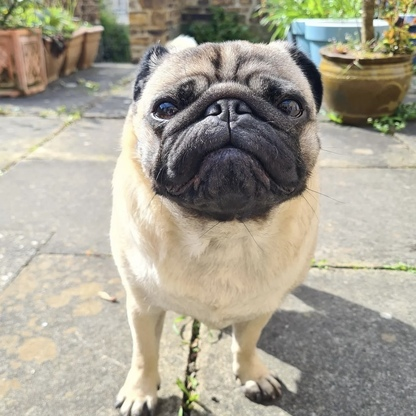Pug: (105, 28, 329, 416)
